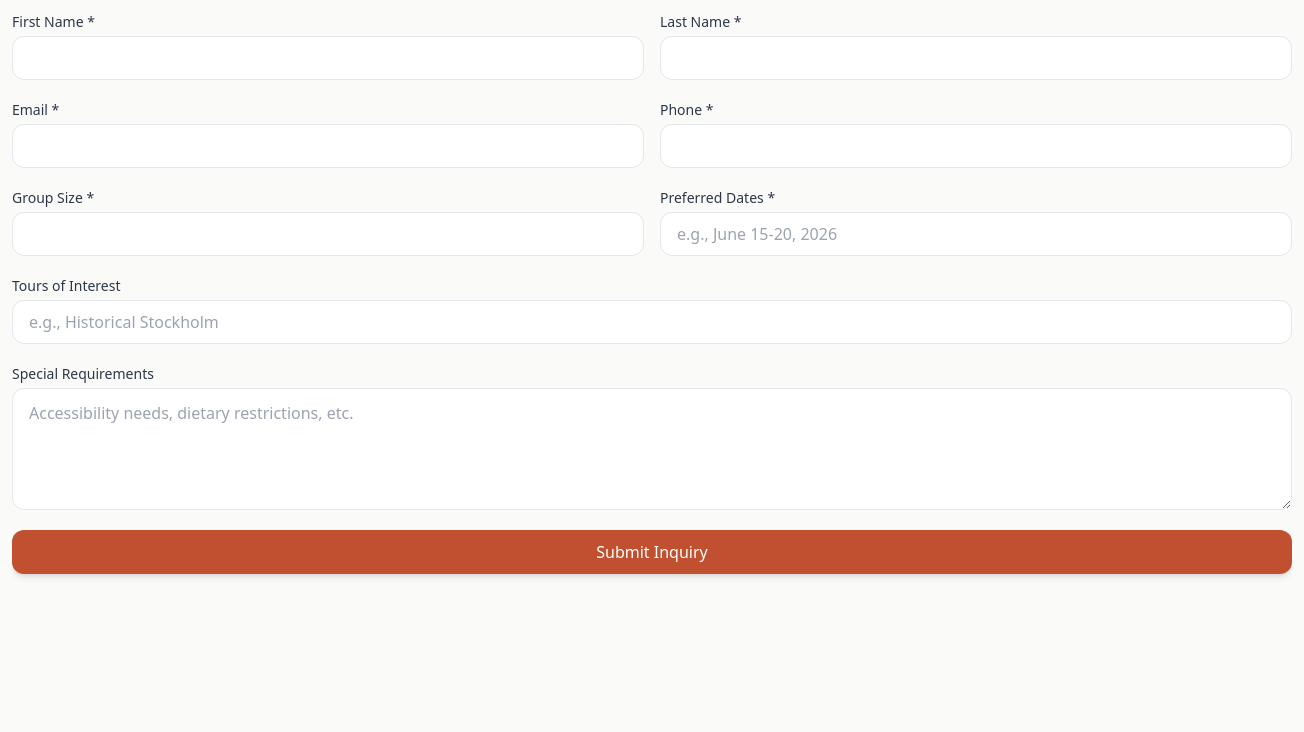
Scenario: GroupInquiryForm › shows invalid email error
Step 1. Type "John" into the field labelled "First Name *" → (328, 58), box [12,36,644,80]
Step 2. Type "Doe" into the field labelled "Last Name *" → (976, 58), box [660,36,1292,80]
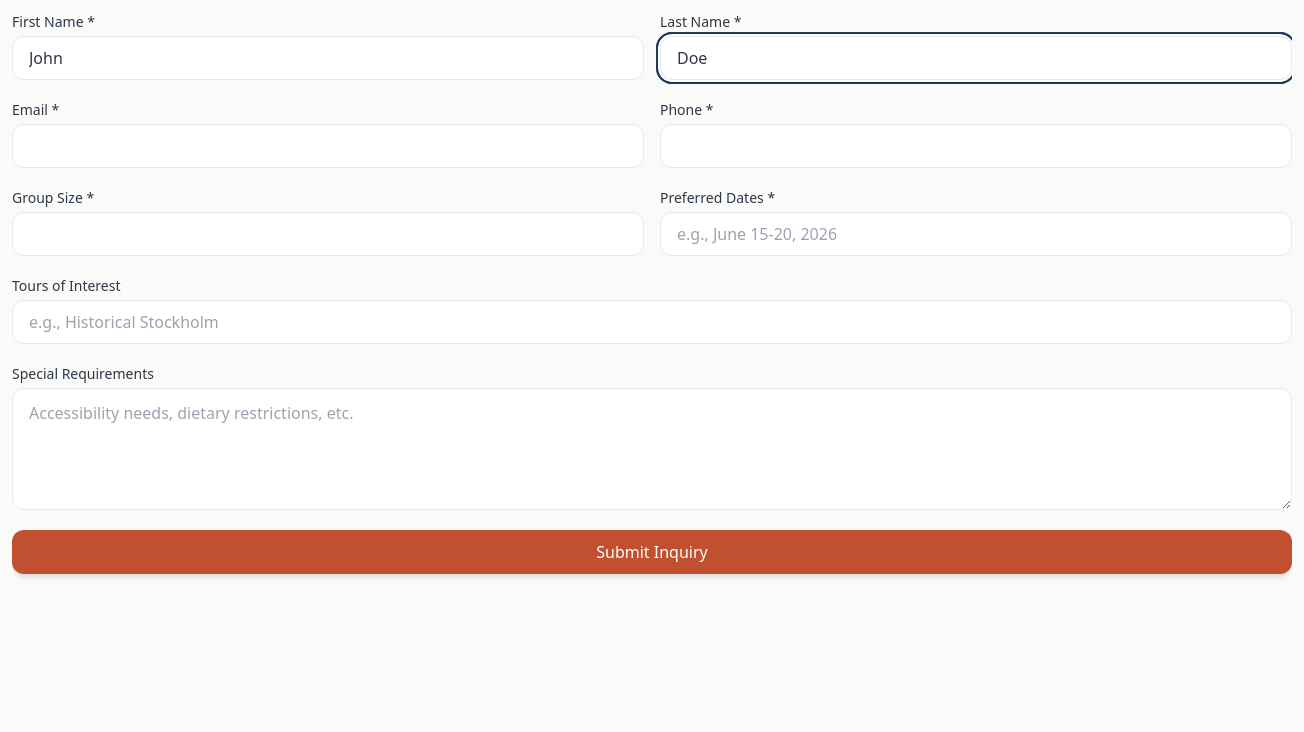
Step 3. Type "not-valid" into the field labelled "Email *" → (328, 146), box [12,124,644,168]
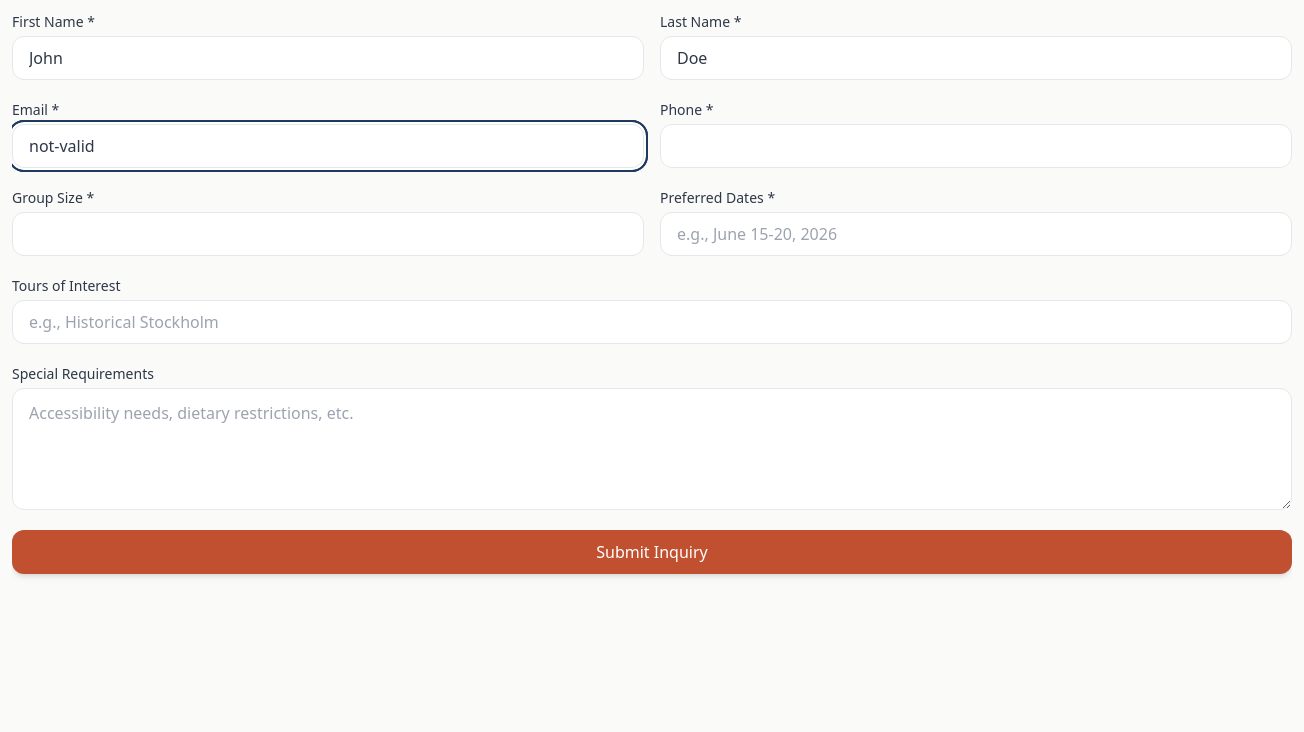
Step 4. Type "46701234567" into the field labelled "Phone *" → (976, 146), box [660,124,1292,168]
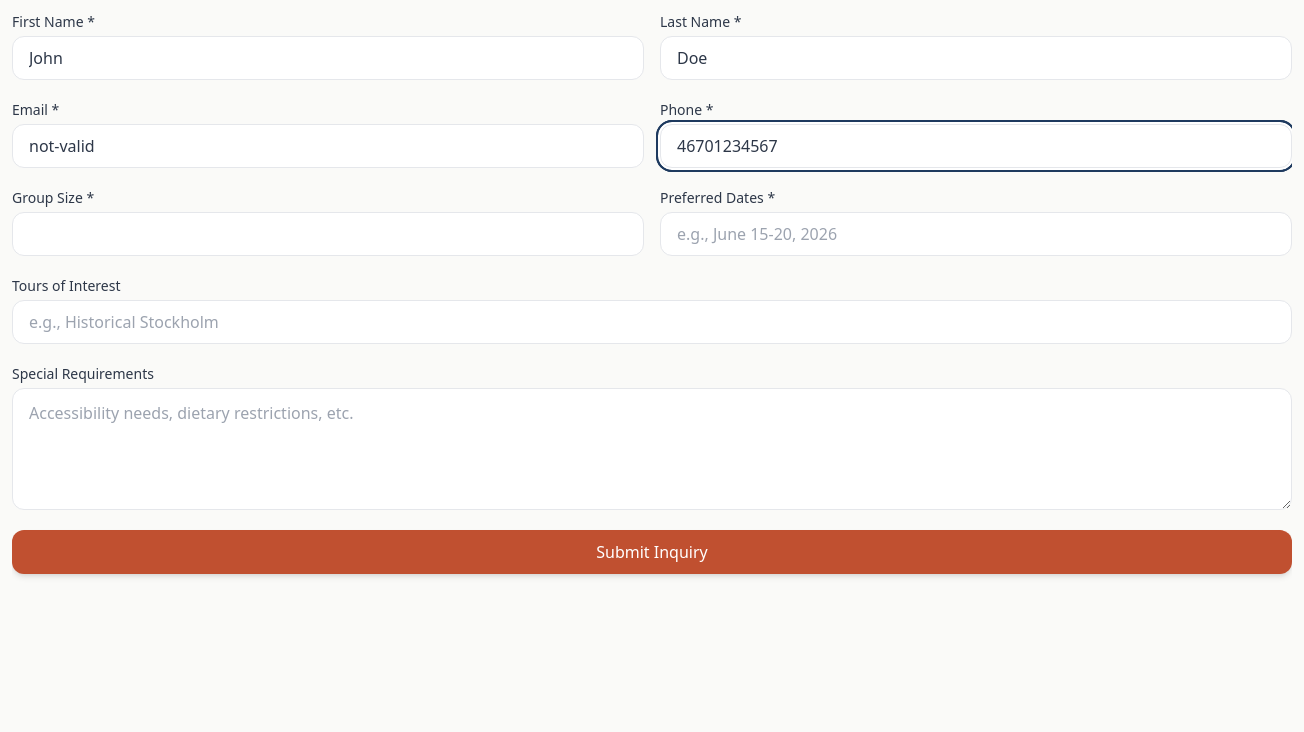
Step 5. Type "25" into the number field labelled "Group Size *" → (328, 234), box [12,212,644,256]
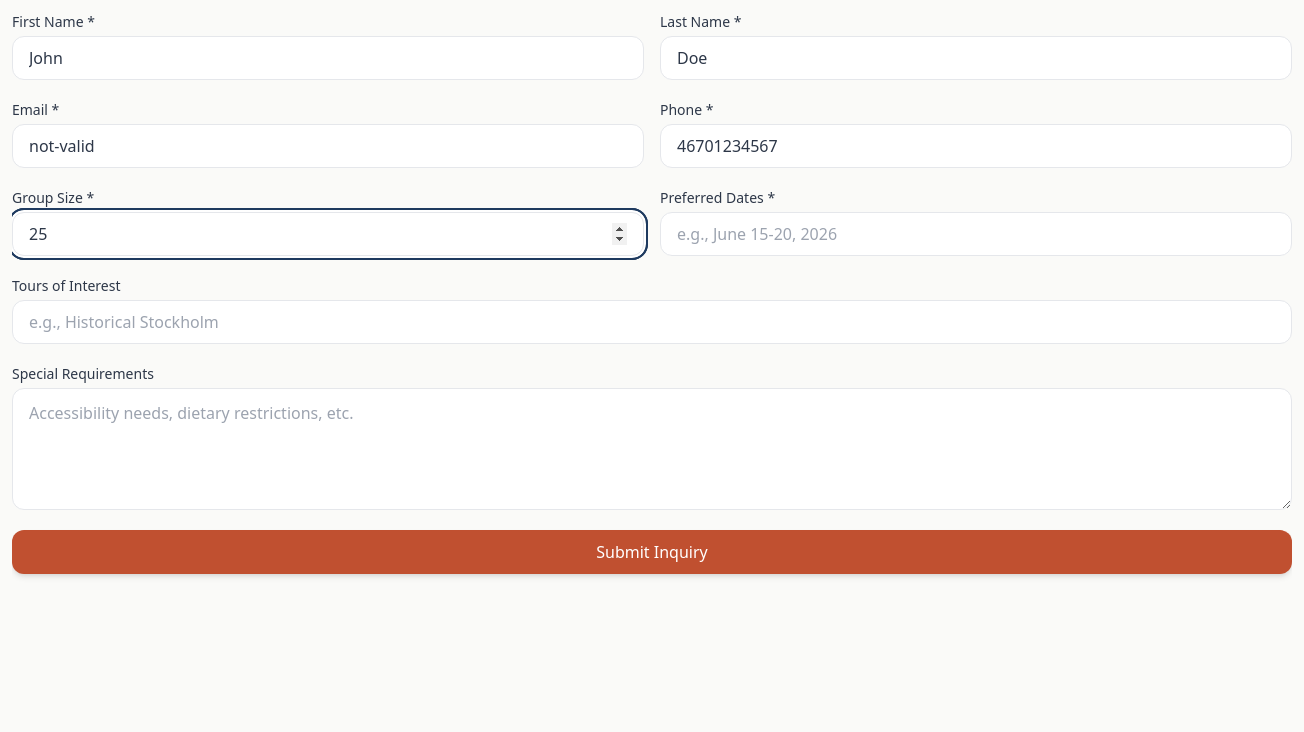
Step 6. Type "June 15-20, 2026" into the field labelled "Preferred Dates *" → (976, 234), box [660,212,1292,256]
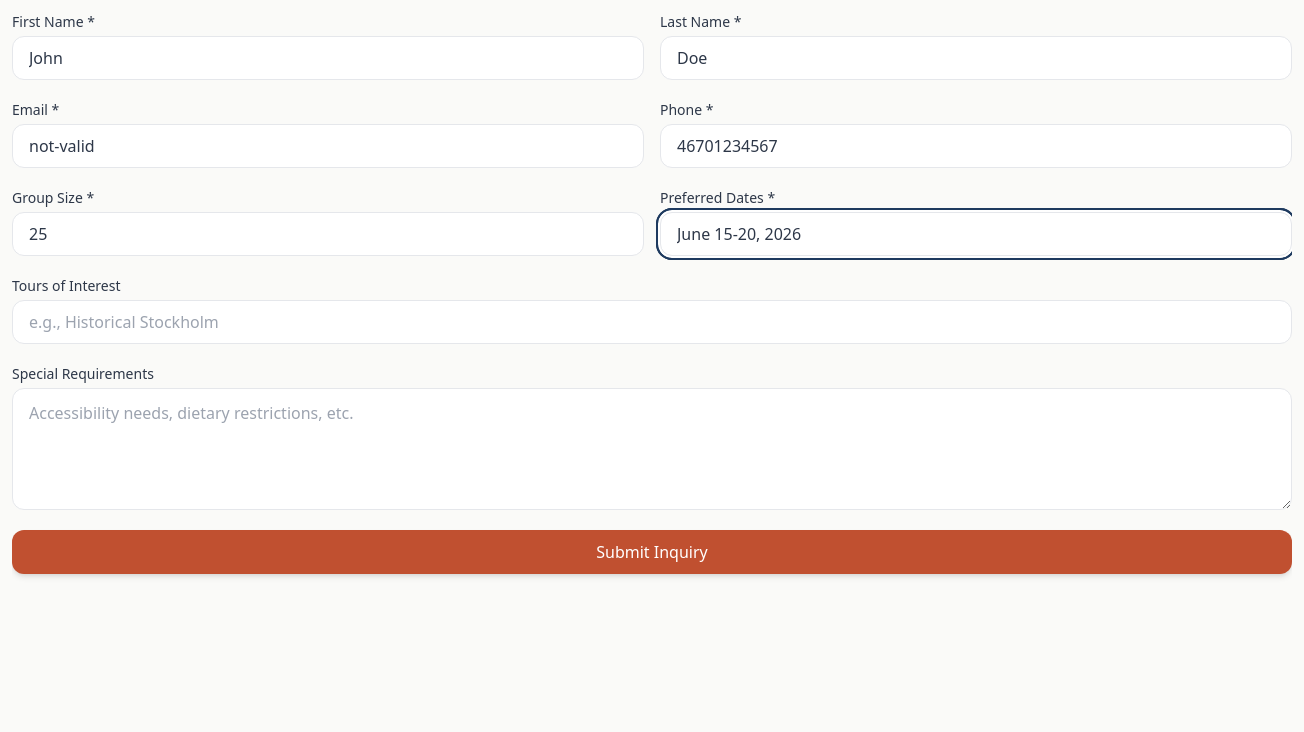
Step 7. Click the button "Submit Inquiry" → click(652, 552), box [12,530,1292,574]
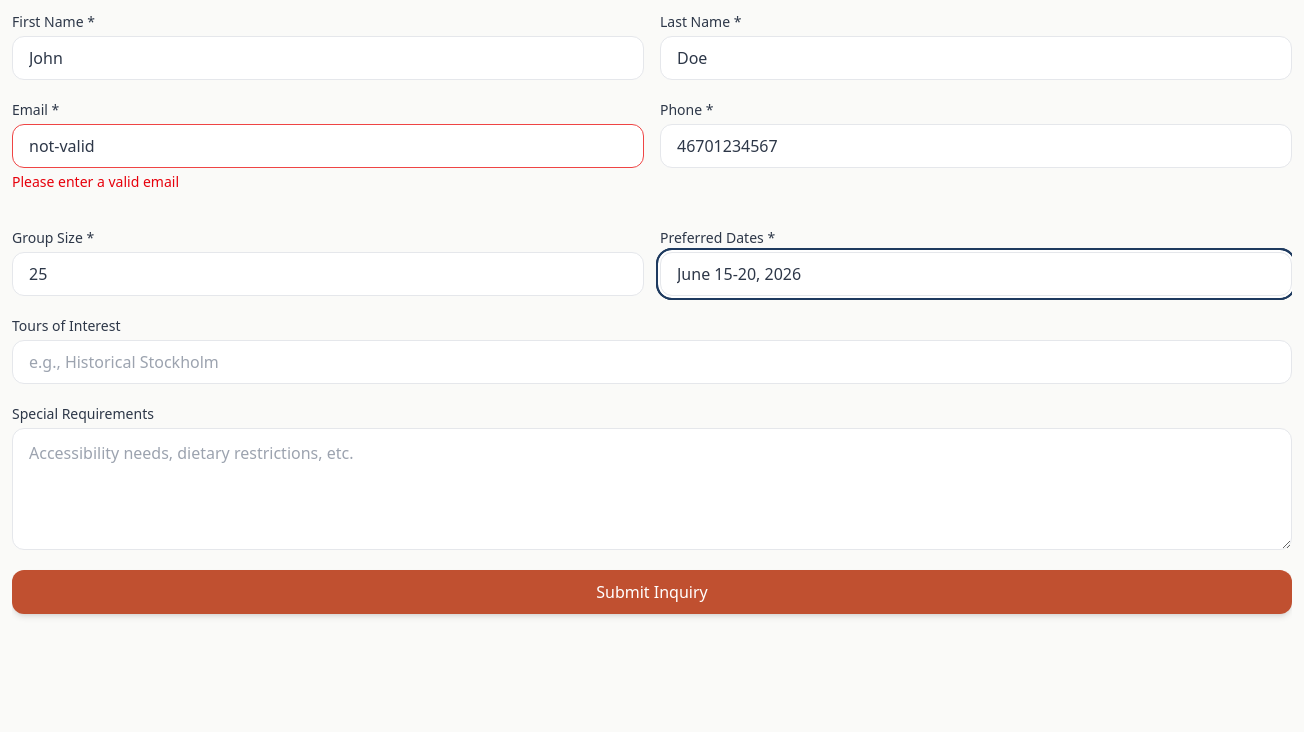
Expected: the text "Please enter a valid email" is shown, [12,172,179,191]
